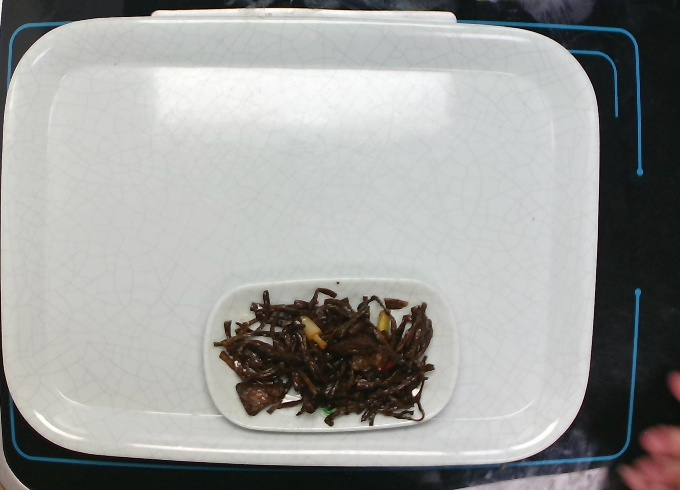WCQzf-Tuo_Yuan_Pan: (199, 273, 464, 439)
